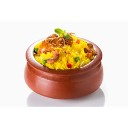briyani: (35, 33, 96, 65)
